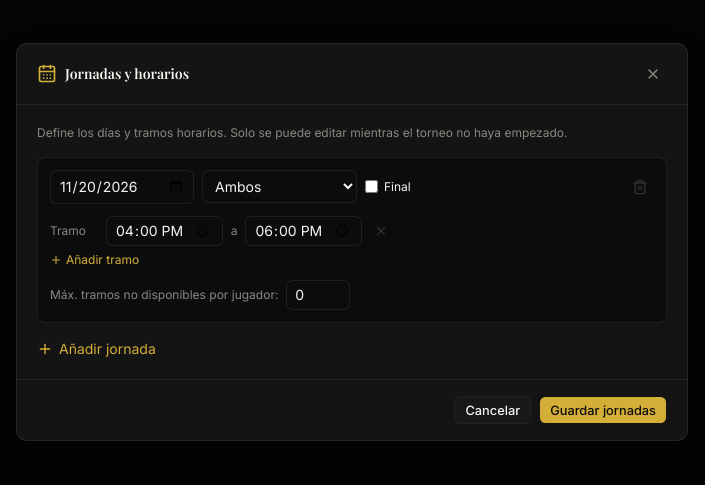
Test case: ScheduleEditorDialog — validación de jornadas (P2-9) › una jornada fuera de las fechas del torneo no se puede guardar
Type "2026-12-25" into the date field.
click(122, 187); type("2026-12-25")  # box [50, 170, 194, 204]
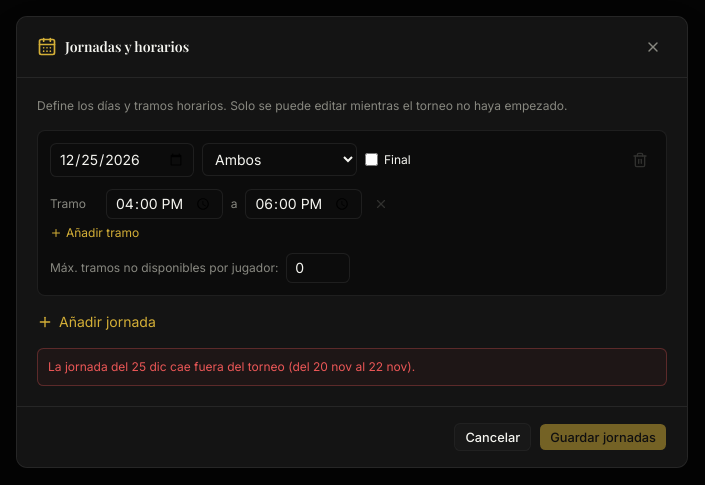
Now the text "La jornada del 25 dic cae fuera del torneo (del 20 nov al 22 nov)." is shown, box [37, 348, 667, 386]
Now the button "Guardar jornadas" is disabled, box [539, 423, 667, 451]
